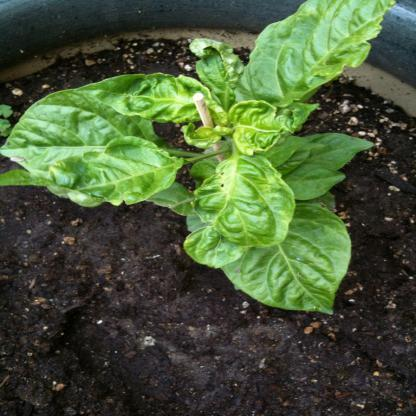Bell_pepper leaf spot: (240, 2, 387, 98), (214, 219, 350, 310), (185, 158, 299, 254), (40, 136, 186, 206), (50, 70, 220, 124)
